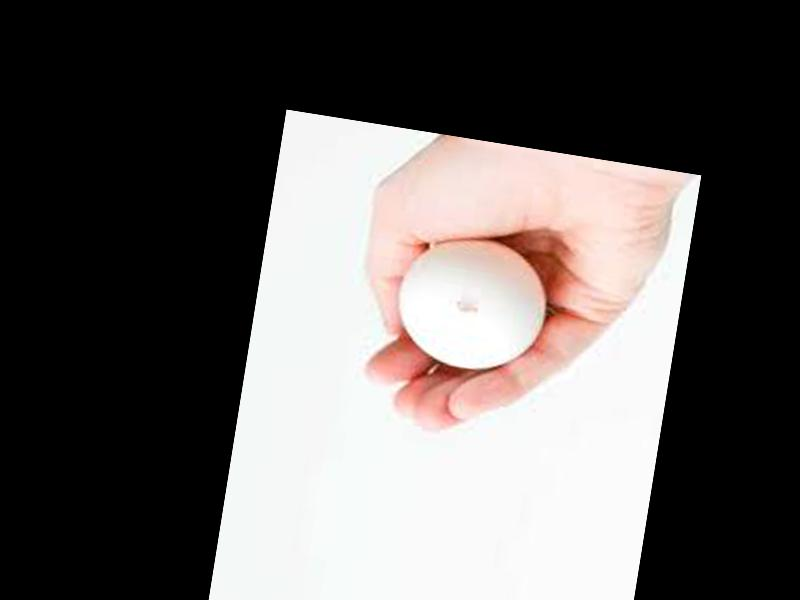Eggs: (393, 230, 552, 379)
